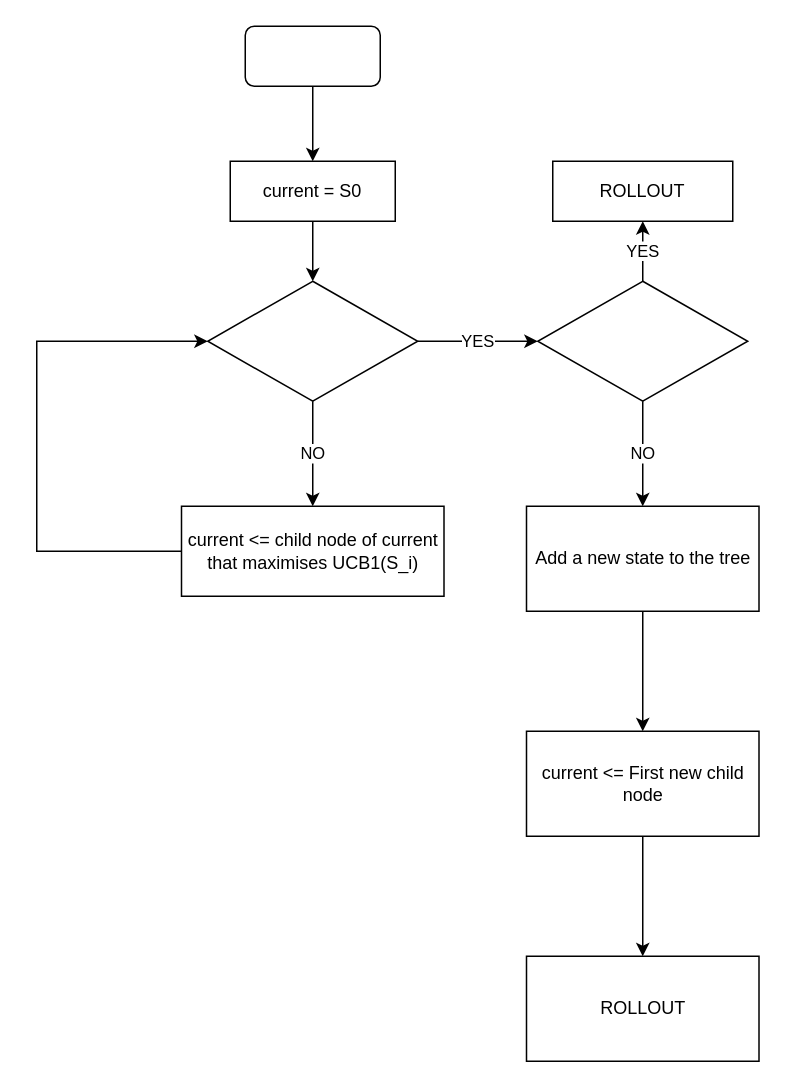
This 786x1088 diagram has some shape labels left out. The box of each missing label's shape, as (x1, y1, x2, y2) in pixels:
is current a leaf node?: (206, 280, 418, 401)
is the n_i value for current = 0?: (536, 280, 748, 401)
Start: (244, 25, 380, 86)
